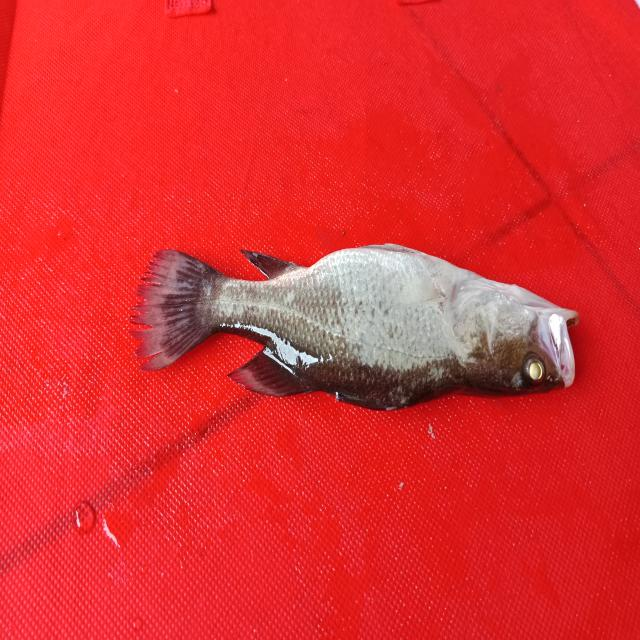ikan: (122, 185, 601, 434)
